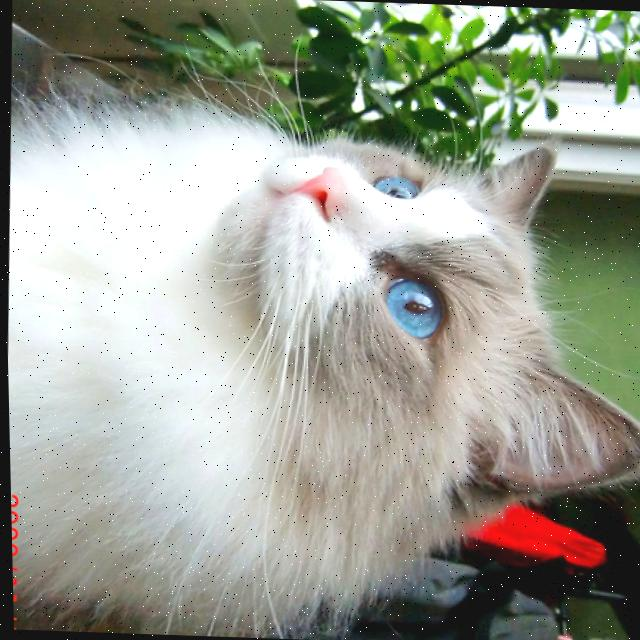Ragdoll: (1, 74, 640, 640)
